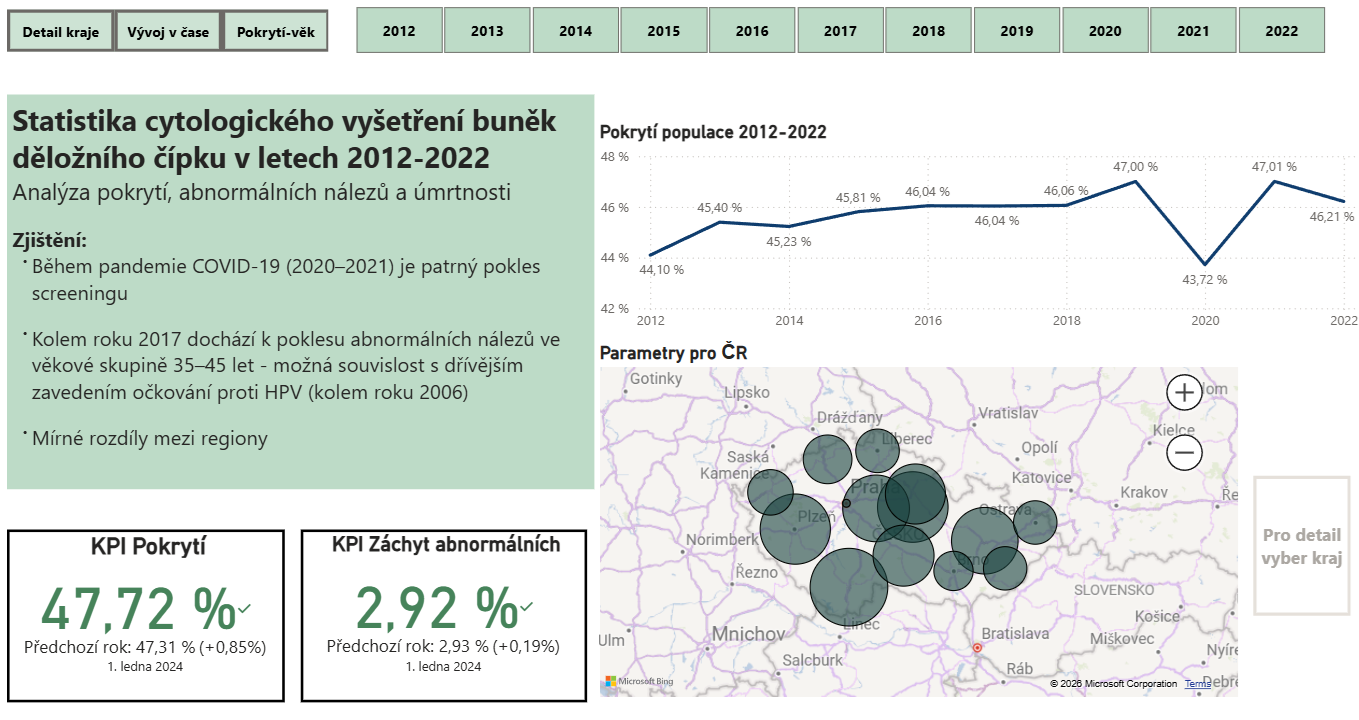

Layout of this report page (visuals, bound fields, positions):
{"tool":"powerbi","page":{"name":"Cervix_cytologie","canvas":[1280,720],"ordinal":0},"visuals":[{"type":"kpi","title":"KPI Pokrytí","fields":{"Indicator":["Fact_pokryti_populace.Celkove_pokryti"],"Goal":["Fact_pokryti_populace.Celkove_pokryti_PY"],"TrendLine":["Dim_roky.rok"]},"box":[305.6,20,240,148.9],"z":0},{"type":"kpi","title":"KPI Záchyt abnormálních","fields":{"Indicator":["Fact_podil_abnormalnich.podil_zachytu"],"Goal":["Fact_podil_abnormalnich.Podil_zachytu_PY"],"TrendLine":["Dim_roky.rok"]},"box":[305.6,176.7,240,160],"z":1000},{"type":"lineChart","title":"Záchyt abnormálních výsledků a celkem vyšetření 2012-2022","fields":{"Category":["Dim_roky.rok.Variation.Date Hierarchy.Year"],"Y":["Fact_podil_abnormalnich.podil_zachytu"],"Y2":["Fact_podil_abnormalnich.Abnormani_celkem_vysetrenych"]},"box":[545,225,735,207.5],"z":2000},{"type":"lineChart","title":"Pokrytí populace 2012-2022","fields":{"Category":["Dim_roky.rok.Variation.Date Hierarchy.Year"],"Y":["Fact_pokryti_populace.Celkove_pokryti"]},"box":[565,20,715,205],"z":3000},{"type":"map","title":"Parametry pro ČR","fields":{"Category":["Dim_kraje.kraj_nazev"],"Size":["Fact_pokryti_populace.Celkove_pokryti"]},"box":[564.4,428.9,454.4,265.6],"z":4000},{"type":"barChart","title":"Pokrytí podle věku","fields":{"Category":["Dim_vek.vek_nazev"],"Y":["Fact_pokryti_populace.Celkove_pokryti"]},"box":[120,336.2,323.8,382.5],"z":5000},{"type":"actionButton","box":[1036.7,500,125.6,124.4],"z":6000},{"type":"textbox","box":[120,20,177.5,183.8],"z":7000},{"type":"slicer","fields":{"Values":["Dim_roky.rok"]},"box":[10,10,110.1,673.8],"z":8000}]}

Visuals, with their boxes on the page's 1280x720 design canvas (x1, y1, x2, y2). These are canvas units, not pixel positions in the 1359x720 screenshot, which may show the page scaled, cropped or inside an application window:
"KPI Pokrytí" kpi: region(306, 20, 546, 169)
"KPI Záchyt abnormálních" kpi: region(306, 177, 546, 337)
"Záchyt abnormálních výsledků a celkem vyšetření 2012-2022" lineChart: region(545, 225, 1280, 432)
"Pokrytí populace 2012-2022" lineChart: region(565, 20, 1280, 225)
"Parametry pro ČR" map: region(564, 429, 1019, 694)
"Pokrytí podle věku" barChart: region(120, 336, 444, 719)
actionButton: region(1037, 500, 1162, 624)
textbox: region(120, 20, 298, 204)
slicer - Dim_roky.rok: region(10, 10, 120, 684)
